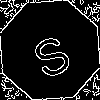S: (25, 25, 75, 81)
